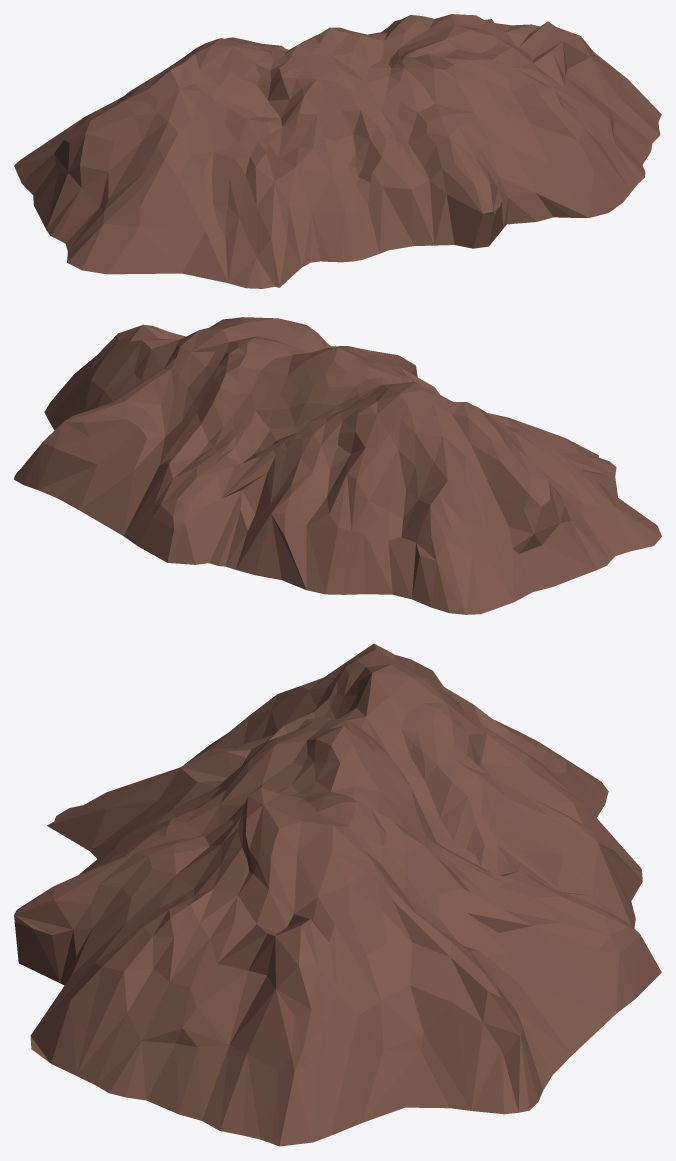
Rendered from mountain_002.fbx.
The picture shows the model from 3 angles, top to bottom: view 1: azimuth 30°, elevation 25°; view 2: azimuth 150°, elevation 25°; view 3: azimuth 270°, elevation 25°; orthographic projection. The views are drawn at different scales.
Visible parts, largest first — view 1: mountain_002; view 2: mountain_002; view 3: mountain_002.
Part boxes in pixels (<box>): mountain_002: <box>14,14,661,288</box>; mountain_002: <box>14,317,661,614</box>; mountain_002: <box>14,643,661,1146</box>.
Size of the model in its own units: 13453 by 8916 by 3135.
